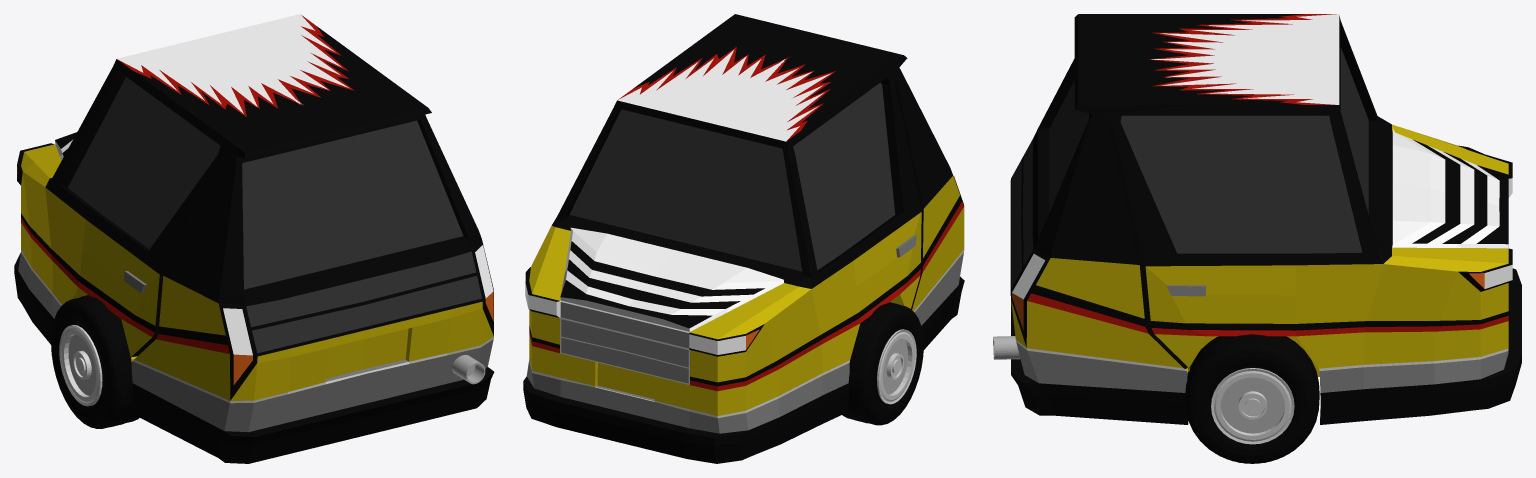
File: CR-CAR-20B.fbx
The picture shows the model from 3 angles, left to right: view 1: azimuth 30°, elevation 25°; view 2: azimuth 150°, elevation 25°; view 3: azimuth 270°, elevation 25°; orthographic projection. The views are drawn at different scales.
Parts seen in each view (by area): view 1: BODY, WHEEL.004, SHACMAN; view 2: BODY, WHEEL.004; view 3: BODY, WHEEL.002, SHACMAN.
Boxes of the visible parts, <box> form: BODY: <box>14,14,494,463</box>; WHEEL.004: <box>51,295,139,428</box>; SHACMAN: <box>452,354,485,384</box>; BODY: <box>523,14,964,463</box>; WHEEL.004: <box>842,302,923,425</box>; BODY: <box>1010,14,1521,424</box>; WHEEL.002: <box>1185,334,1319,463</box>; SHACMAN: <box>993,336,1020,359</box>.
Size of the model in its own units: 110 by 96.57 by 143.
